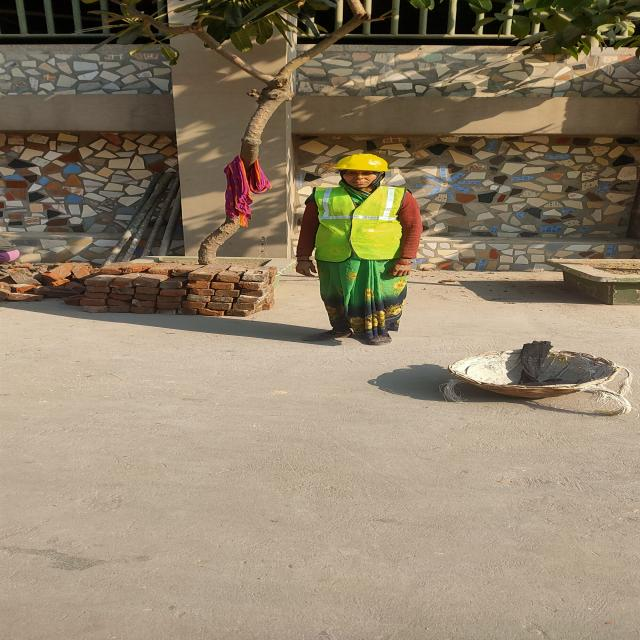safe: (296, 154, 426, 346)
